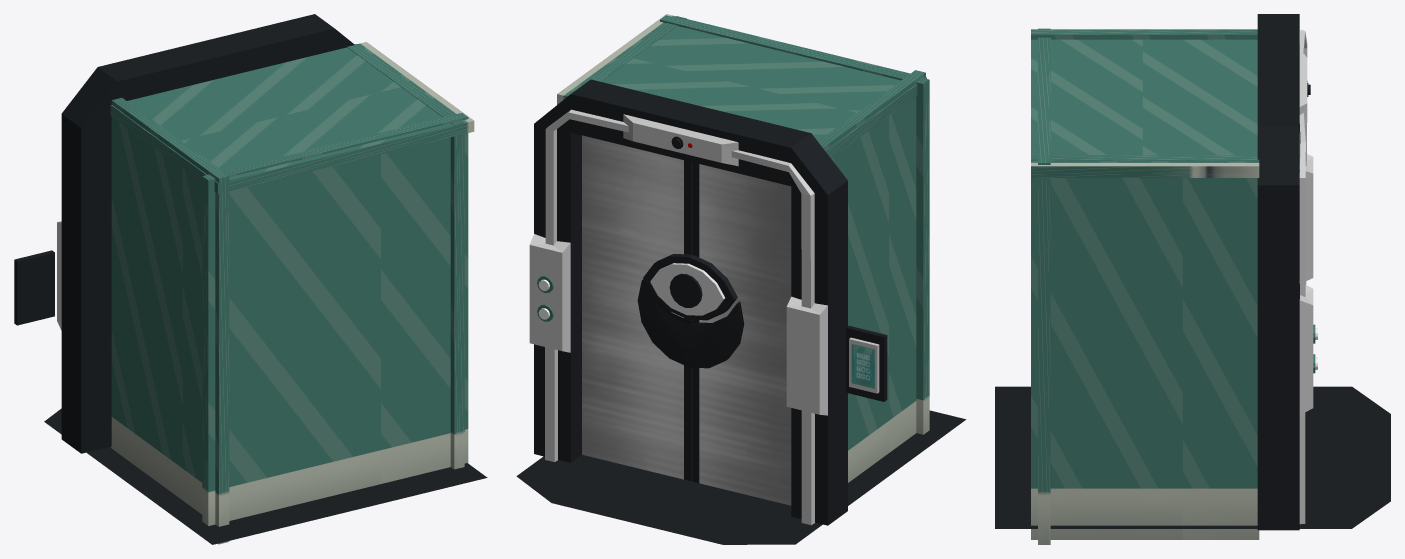
The model's file is elevator_model.fbx.
3 views of the same model, side by side, from view 1: azimuth 30°, elevation 25°; view 2: azimuth 150°, elevation 25°; view 3: azimuth 270°, elevation 25° (orthographic). The views are drawn at different scales.
Parts seen in each view (by area): view 1: Cube.004, Cube.002, Cube_baked, Cube.005, Plane, Cube.003, Cube.001; view 2: Cube_baked, Cube.002, Cube.005, Plane, Cylinder.008_baked, Cube.004, Cube.001, Cube.003; view 3: Cube.003, Cube.005, Cube_baked, Plane, Cube.004, Cube.002.
Boxes of the visible parts, bbox=[...] form: Cube.004: bbox=[202, 113, 468, 525]; Cube.002: bbox=[111, 98, 229, 544]; Cube_baked: bbox=[57, 14, 354, 453]; Cube.005: bbox=[110, 42, 474, 193]; Plane: bbox=[44, 408, 487, 544]; Cube.003: bbox=[347, 44, 464, 469]; Cube.001: bbox=[14, 250, 54, 325]; Cube_baked: bbox=[529, 79, 847, 525]; Cube.002: bbox=[818, 70, 925, 482]; Cube.005: bbox=[557, 14, 926, 158]; Plane: bbox=[516, 410, 966, 544]; Cylinder.008_baked: bbox=[637, 254, 744, 368]; Cube.004: bbox=[660, 15, 929, 434]; Cube.001: bbox=[846, 325, 887, 401]; Cube.003: bbox=[567, 16, 686, 96]; Cube.003: bbox=[1031, 155, 1259, 539]; Cube.005: bbox=[1031, 39, 1259, 177]; Cube_baked: bbox=[1257, 14, 1313, 530]; Plane: bbox=[995, 386, 1390, 528]; Cube.004: bbox=[1038, 28, 1050, 544]; Cube.002: bbox=[1031, 29, 1257, 39].
Size of the model in its own units: 219 by 235 by 208.
